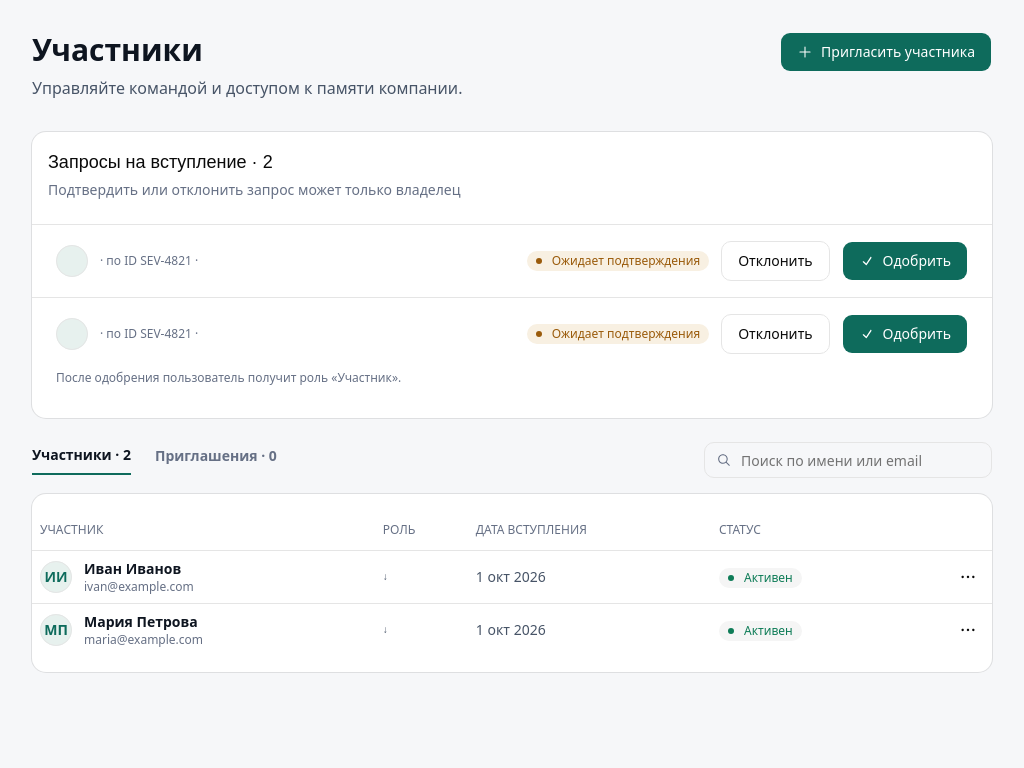
Test: MembersPage › показывает сообщение, если участники не найдены
The image size is (1024, 768).
Type "Несуществующий пользователь" into the field with placeholder "Поиск по имени или email" at (848, 460), box [704, 442, 992, 478]
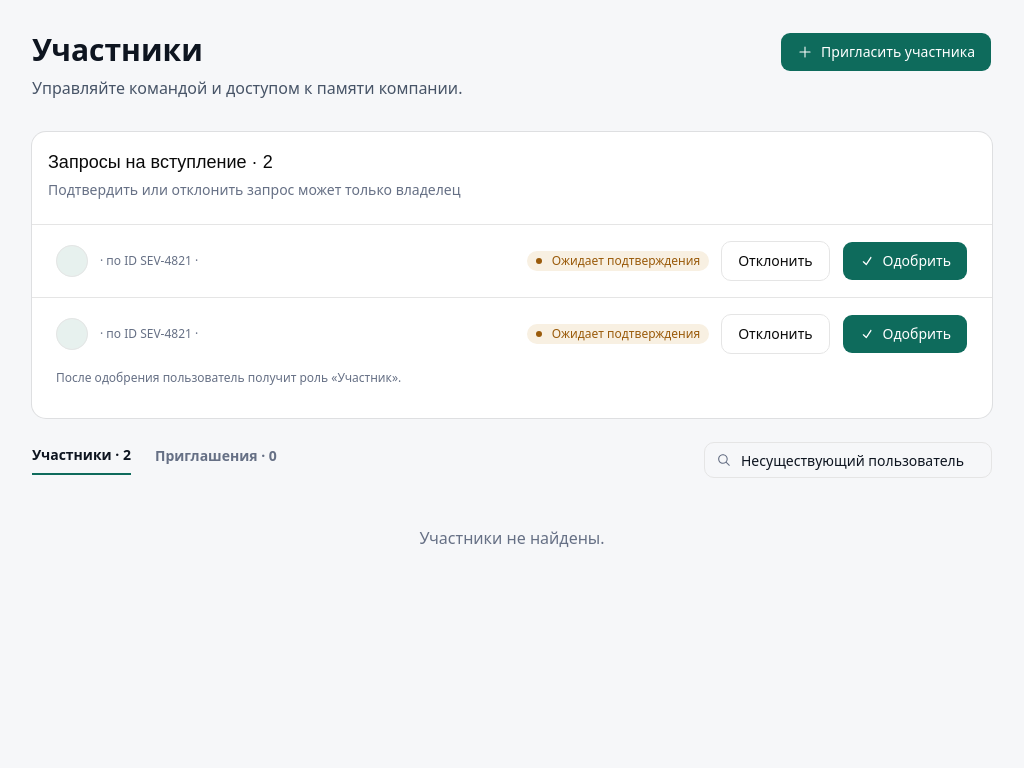
Check: the text "Участники не найдены." is shown, box [419, 527, 605, 549]
